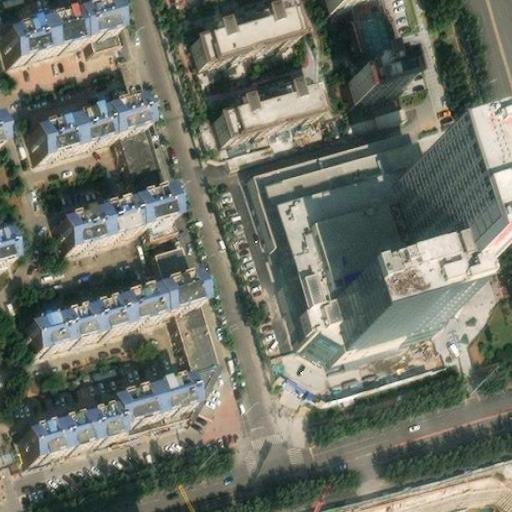building: (236, 137, 435, 362), (34, 268, 210, 349), (123, 302, 222, 435), (401, 172, 478, 327), (320, 288, 445, 365), (64, 182, 185, 248), (37, 92, 156, 155), (374, 460, 512, 512), (214, 74, 319, 137), (192, 0, 297, 60), (30, 401, 126, 461), (114, 372, 200, 425), (117, 125, 165, 194), (353, 0, 399, 65), (348, 58, 403, 102), (157, 243, 192, 279), (0, 226, 21, 261), (145, 218, 178, 238), (90, 28, 121, 47)
